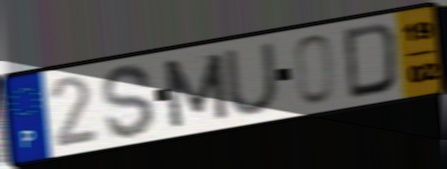0: (290, 31, 340, 109)
2: (47, 73, 100, 152)
D: (341, 20, 400, 103)
M: (159, 50, 232, 131)
S: (99, 61, 158, 142)
U: (221, 39, 284, 117)
